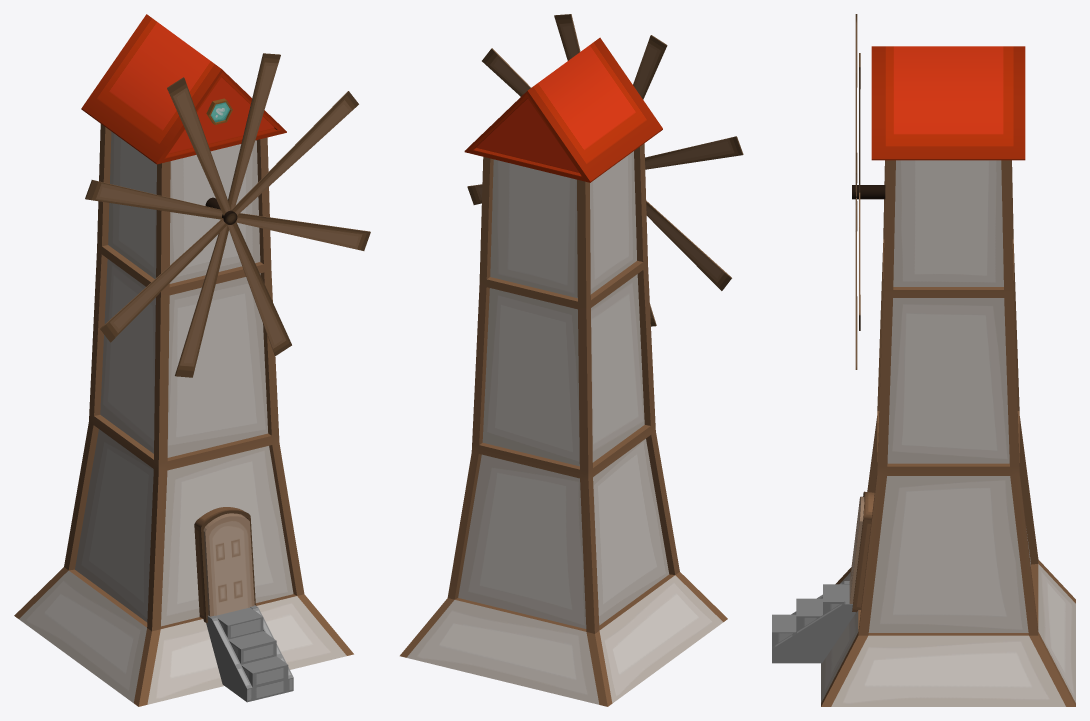
The model's file is Windmill.fbx.
3 views of the same model, side by side, from view 1: azimuth 30°, elevation 25°; view 2: azimuth 150°, elevation 25°; view 3: azimuth 270°, elevation 25° (orthographic). The views are drawn at different scales.
Visible parts, largest first — view 1: pCube3, pCube25, pCube11, pCube4, pCube22, pCube23, pCube16, pCube24; view 2: pCube3, pCube25, pCube22, pCube24, pCube16, pCube23; view 3: pCube3, pCube25, pCube4, pCube11, pCube16, pCylinder2.
Part boxes in pixels (x1,y1,x2,y2): pCube3: (14, 124, 353, 706); pCube25: (81, 14, 286, 164); pCube11: (194, 507, 255, 622); pCube4: (206, 605, 293, 702); pCube22: (100, 91, 358, 342); pCube23: (175, 53, 280, 377); pCube16: (167, 77, 291, 355); pCube24: (85, 180, 370, 250); pCube3: (400, 143, 727, 706); pCube25: (464, 37, 662, 182); pCube22: (482, 48, 731, 290); pCube24: (467, 136, 743, 204); pCube16: (633, 35, 667, 99); pCube23: (554, 14, 656, 326); pCube3: (821, 160, 1075, 706); pCube25: (871, 46, 1025, 160); pCube4: (772, 581, 855, 663); pCube11: (849, 491, 874, 612); pCube16: (855, 14, 857, 369); pCylinder2: (852, 185, 885, 199).
Bounding box in the file's own units: 12.33 × 24.97 × 11.12.
